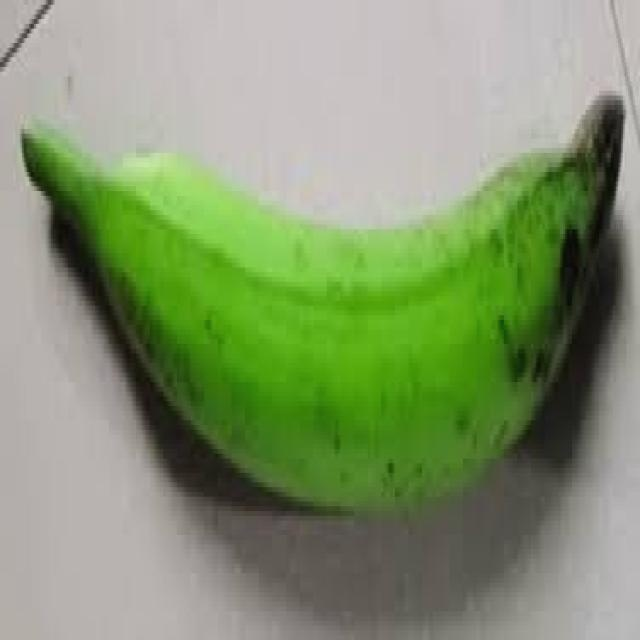agrume: (20, 85, 628, 519)
